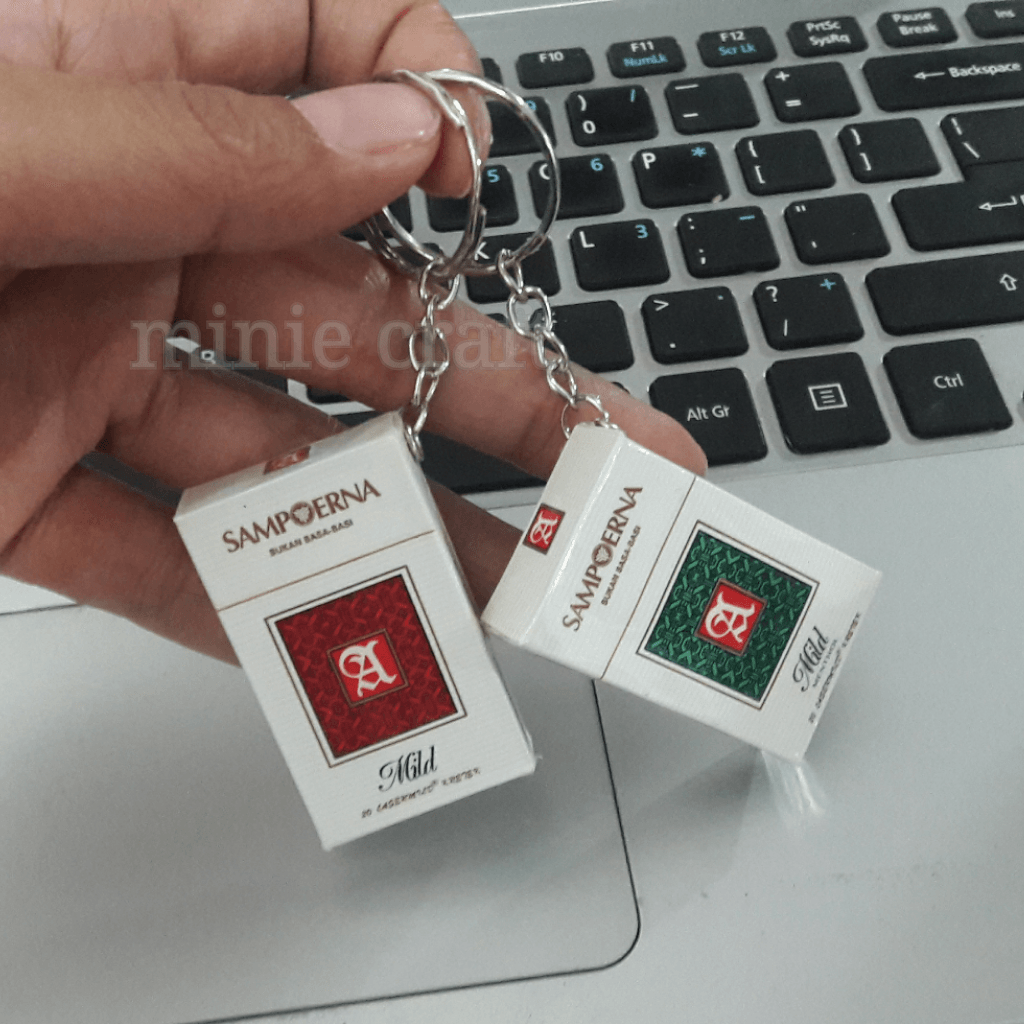A Mild: (208, 568, 504, 836)
